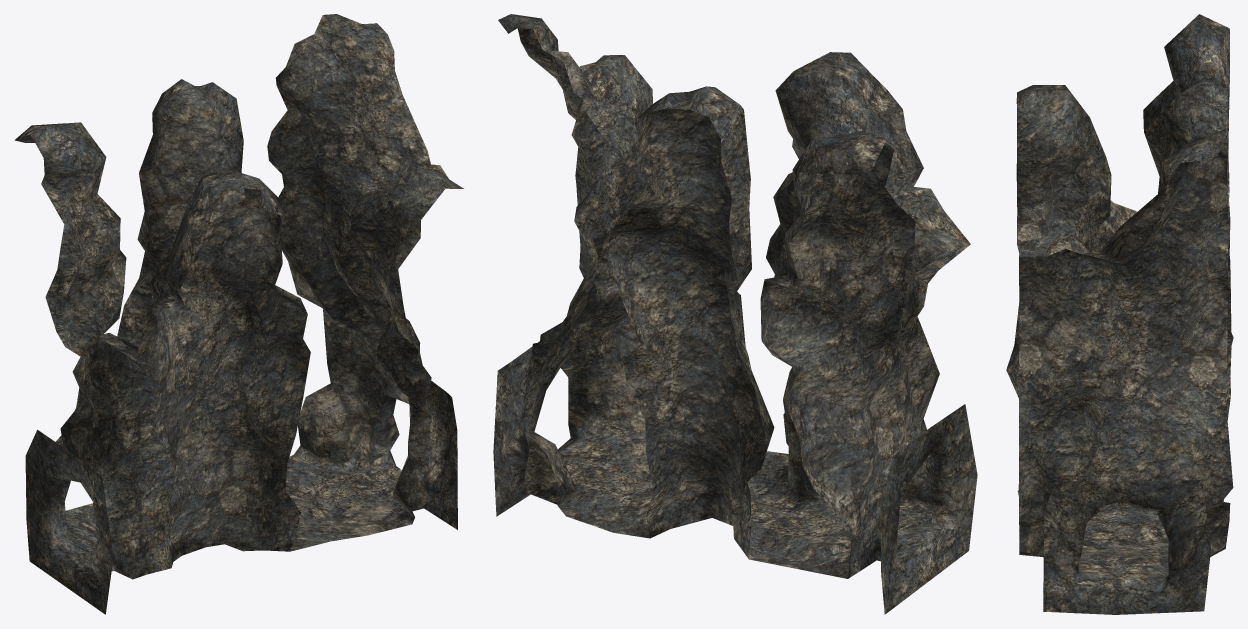
Rendered from Module13A_LOD1.fbx.
3 renders of one model, left to right at view 1: azimuth 30°, elevation 25°; view 2: azimuth 150°, elevation 25°; view 3: azimuth 270°, elevation 25°, orthographic. The views are drawn at different scales.
Parts seen in each view (by area): view 1: cave_el13_1900_Group18713; view 2: cave_el13_1900_Group18713; view 3: cave_el13_1900_Group18713.
Part boxes in pixels (left/top/right/bottom): cave_el13_1900_Group18713: left=14, top=14, right=463, bottom=614; cave_el13_1900_Group18713: left=493, top=14, right=977, bottom=614; cave_el13_1900_Group18713: left=1006, top=14, right=1233, bottom=614.
Bounding box in the file's own units: 20.78 × 25.7 × 11.39.
